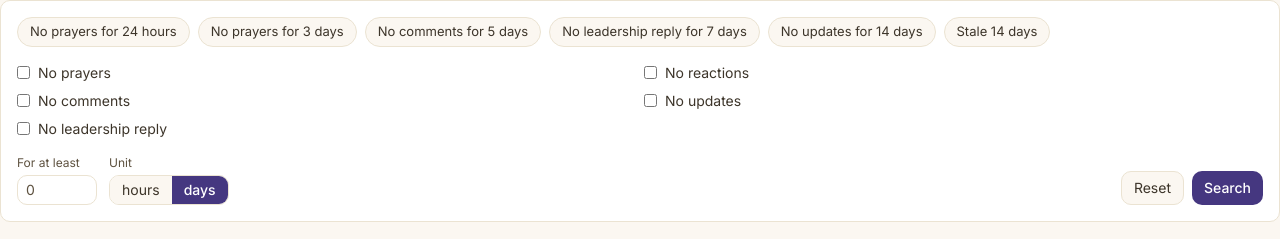
ModFollowupSearch › Reset clears the form and the highlight
Click the button "Stale 14 days".
click(997, 32)  # box [944, 17, 1050, 46]
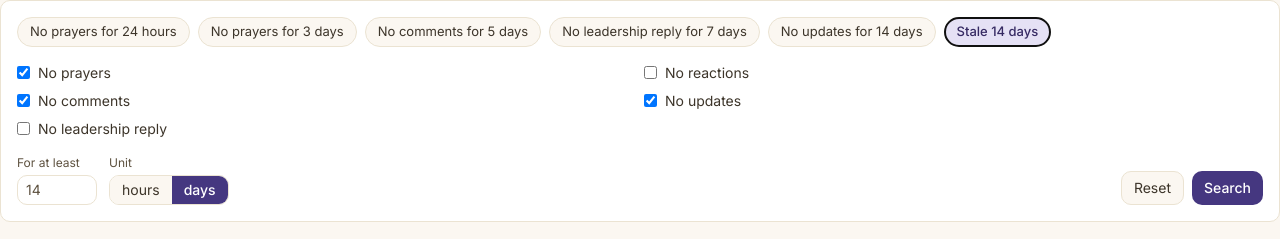
Click the button "Reset".
click(1152, 188)  # box [1121, 170, 1184, 204]
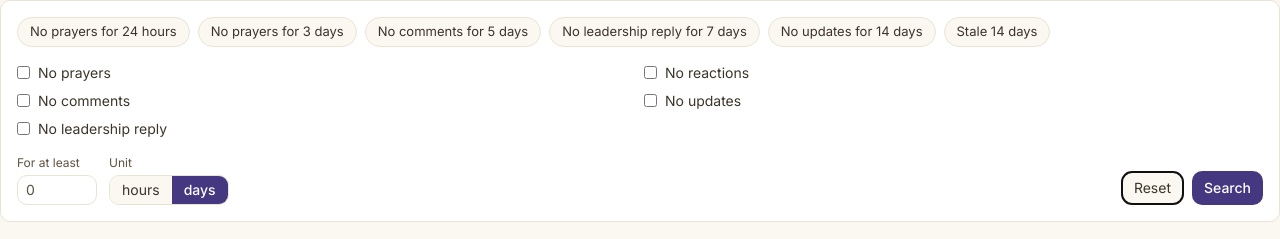
expect the checkbox labelled "No prayers" is not checked: met, box [17, 66, 30, 79]
expect the number field labelled "For at least" holds "0": met, box [17, 174, 97, 204]
